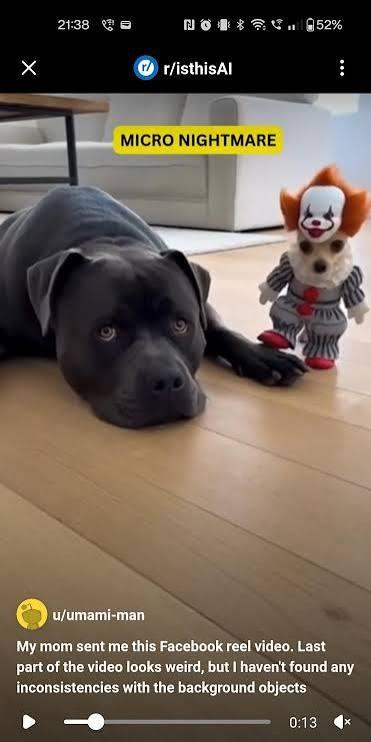adult_dog: (0, 181, 307, 429)
non-dog: (256, 163, 371, 371)
